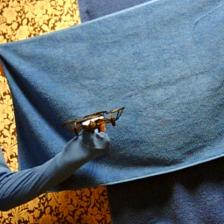drone: (62, 107, 126, 134)
